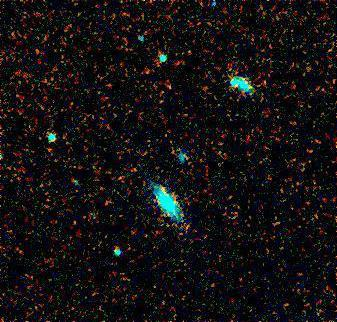star: (149, 176, 179, 206)
